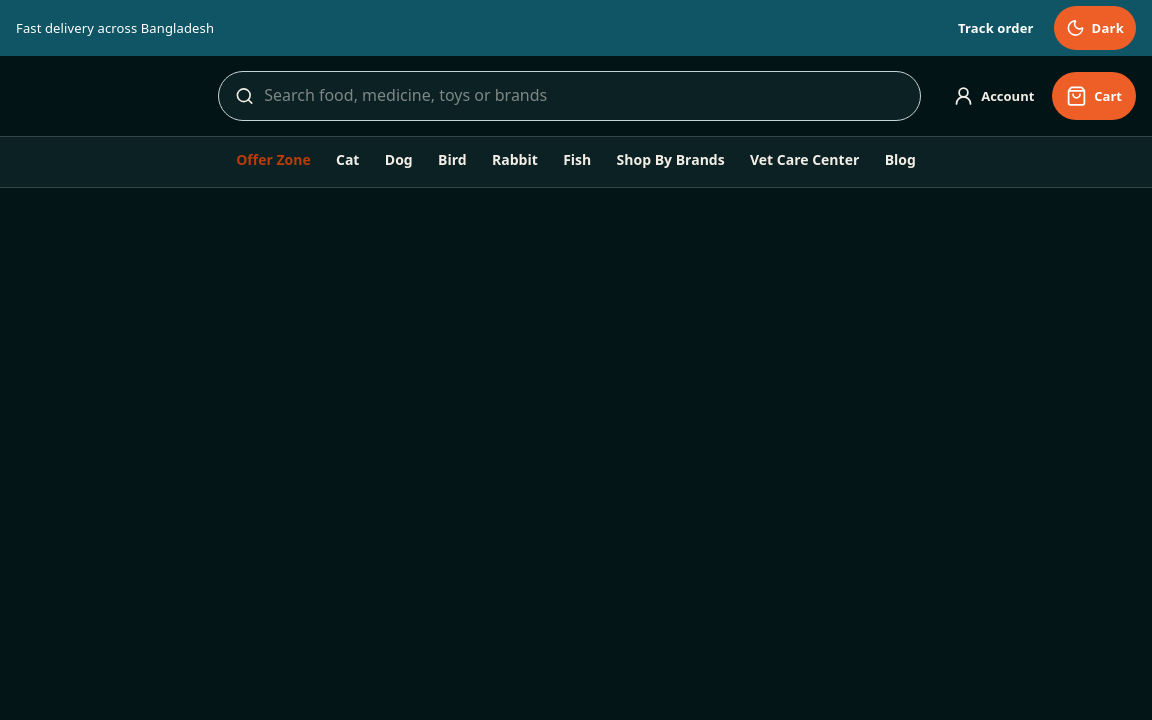
Test: Header › renders the theme toggle and toggles dark mode
Click the button with aria-label "Switch to light mode" at (1095, 28), box [1054,6,1136,50]
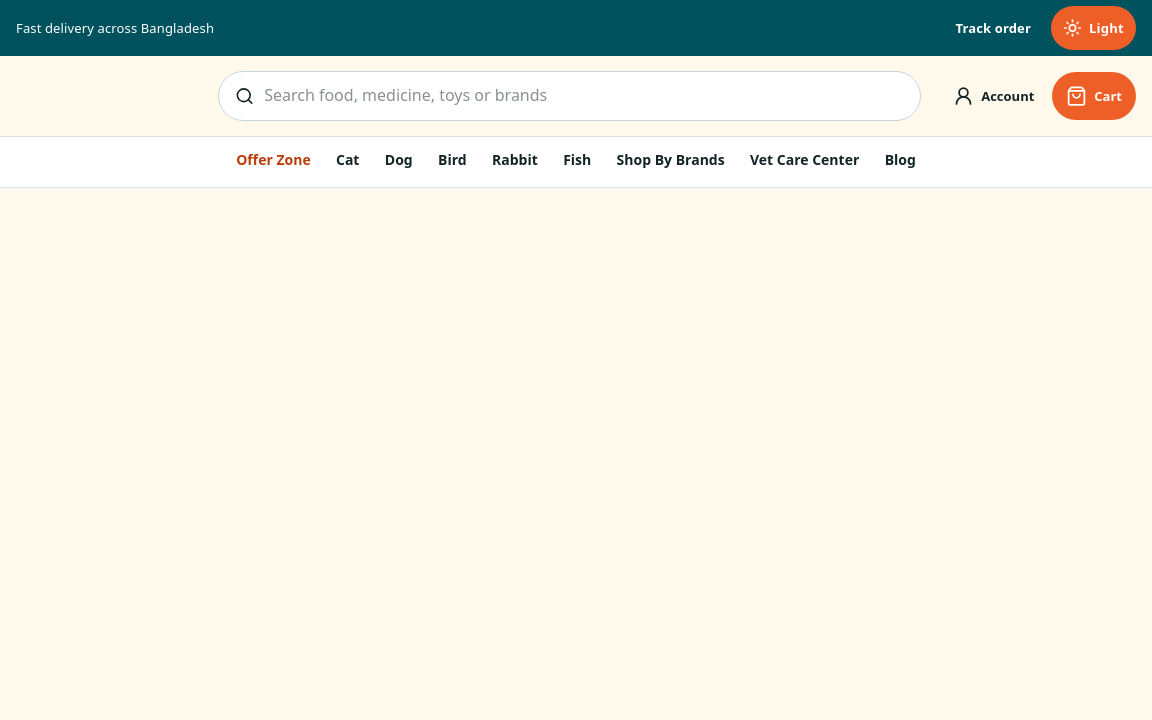
Check: the button named "Switch to light mode" reads "Light", box [1051,6,1136,50]
